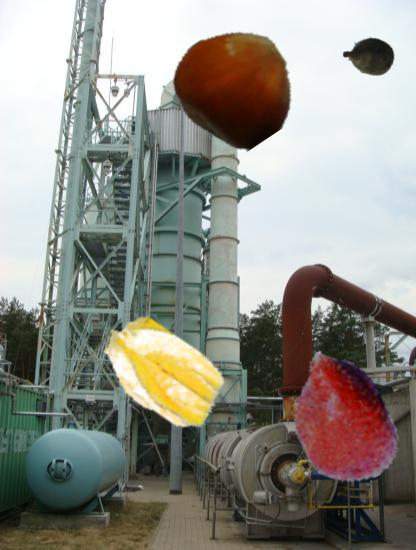Beetroot: (342, 29, 395, 82)
Nut: (177, 28, 296, 147)
Physalis: (95, 305, 229, 439)
Salak: (271, 349, 409, 487)
